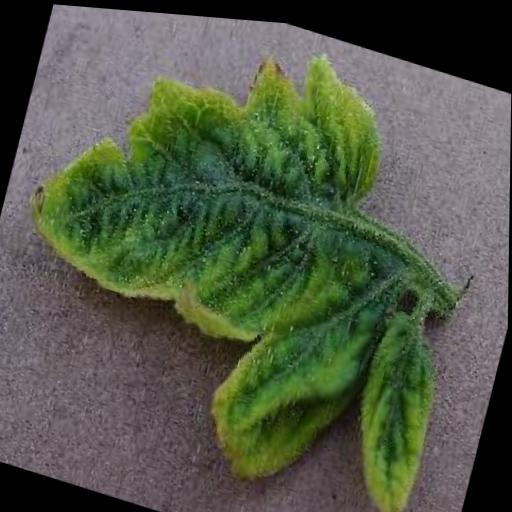Yellow Leaf Curl Virus: (0, 0, 509, 512)
